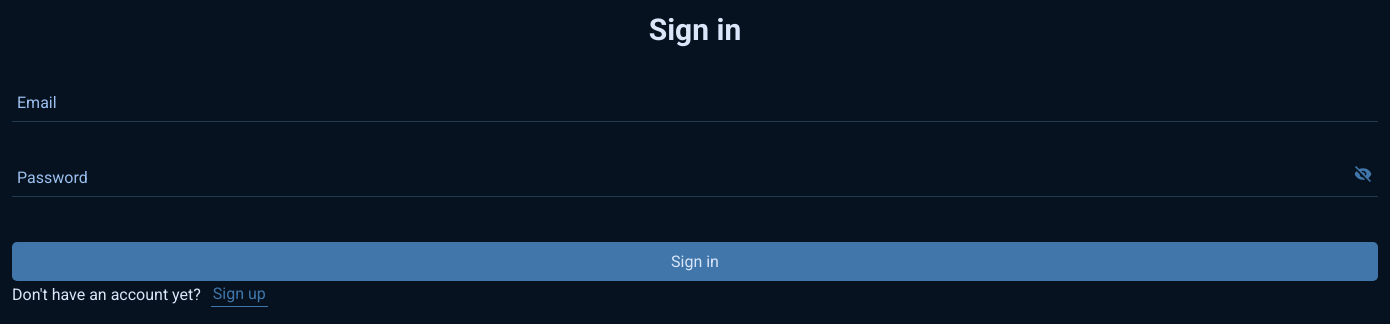
Scenario: Sign-in › spinner should appear in sign in button upon submission
The width and height of the screenshot is (1390, 324).
Type "something@gmail.com" into the label with test id "email" at (695, 102), box [12,82,1378,122]
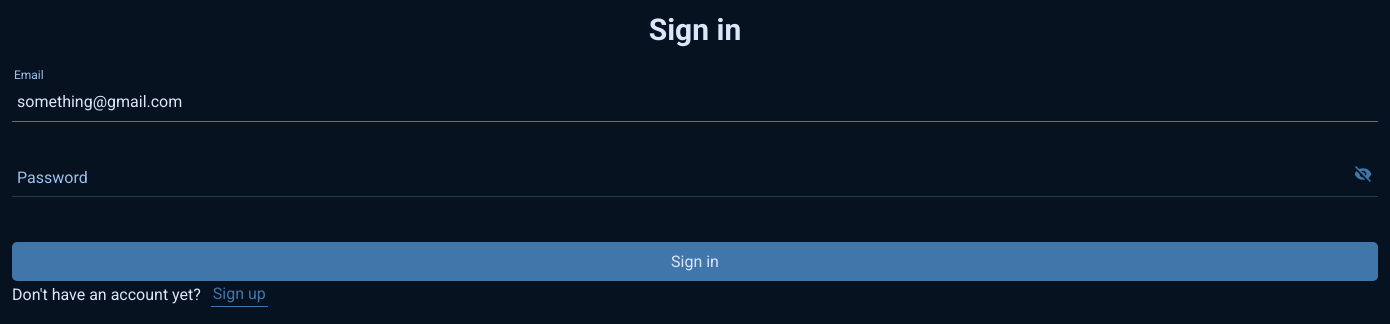
Type "somethingSomewhere123" into the label with test id "password" at (695, 177), box [12,157,1378,197]
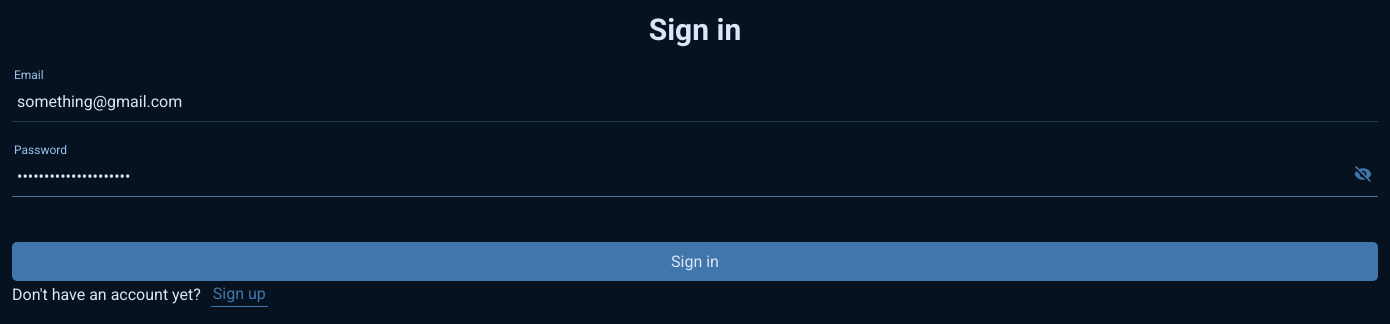
Click the button with test id "submit-btn" at (695, 262), box [12,242,1378,281]
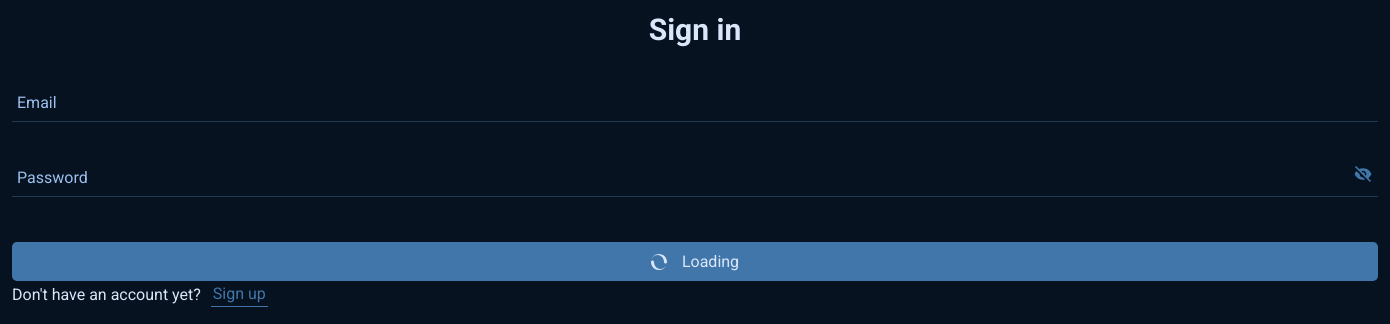
Result: the element with test id "spinner" is shown at [651,254,667,270]
